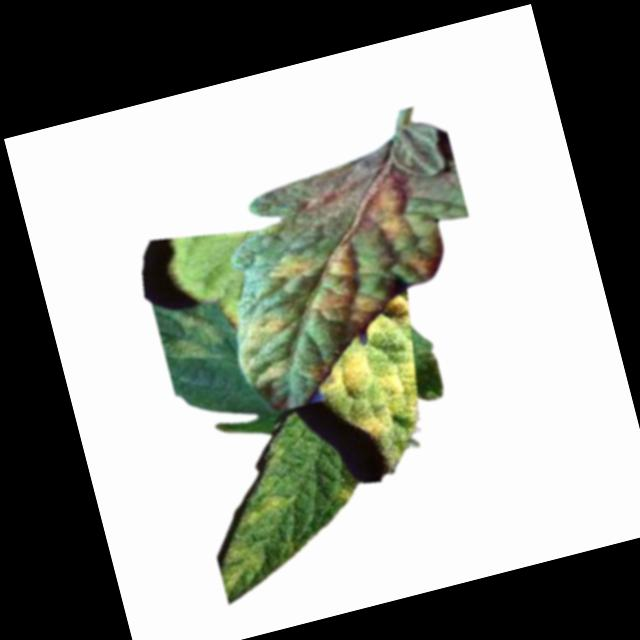Leaf_Mold: (306, 288, 440, 449), (301, 238, 371, 311), (364, 170, 419, 245), (216, 540, 271, 596), (234, 487, 297, 526), (265, 245, 321, 284), (244, 307, 299, 344), (339, 488, 356, 507)
